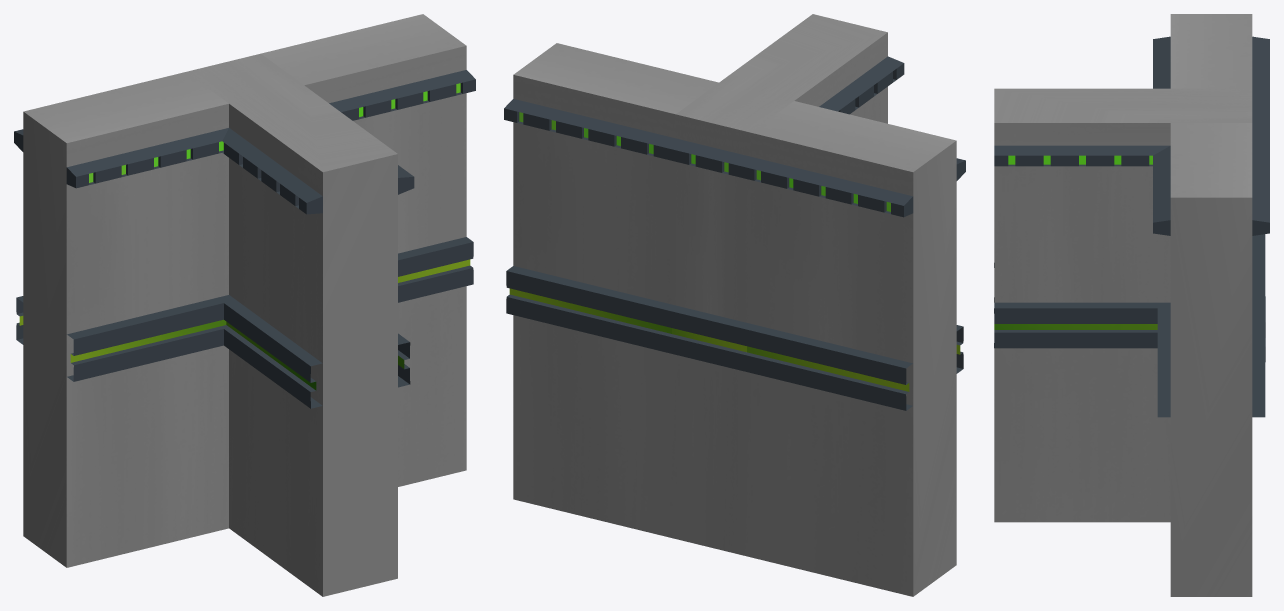
The model's file is tres wall.fbx.
The picture shows the model from 3 angles, left to right: view 1: azimuth 30°, elevation 25°; view 2: azimuth 150°, elevation 25°; view 3: azimuth 270°, elevation 25°; orthographic projection. The views are drawn at different scales.
Visible parts, largest first — view 1: polySurface46; view 2: polySurface46; view 3: polySurface46.
Part boxes in pixels (bbox=[...]): polySurface46: bbox=[14, 14, 475, 596]; polySurface46: bbox=[504, 14, 965, 596]; polySurface46: bbox=[994, 14, 1269, 596].
Bounding box in the file's own units: 2.73 × 2.77 × 1.73.
Materials: 2 (2 with a texture image).
